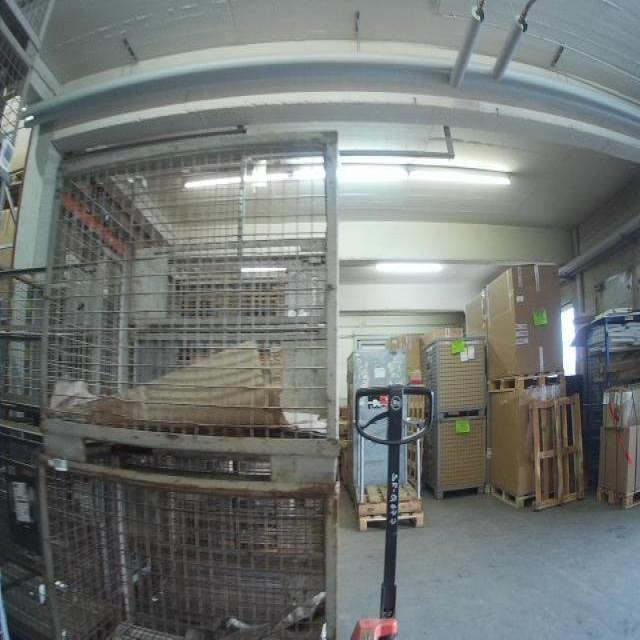pallet: (528, 391, 588, 514), (487, 368, 565, 396), (488, 480, 537, 513), (359, 512, 428, 534), (596, 483, 640, 512)
pallet_truck: (341, 382, 436, 637)
stillage: (42, 114, 350, 463), (49, 443, 344, 640), (2, 429, 111, 636), (2, 248, 114, 416), (432, 413, 497, 510), (424, 329, 494, 418)
